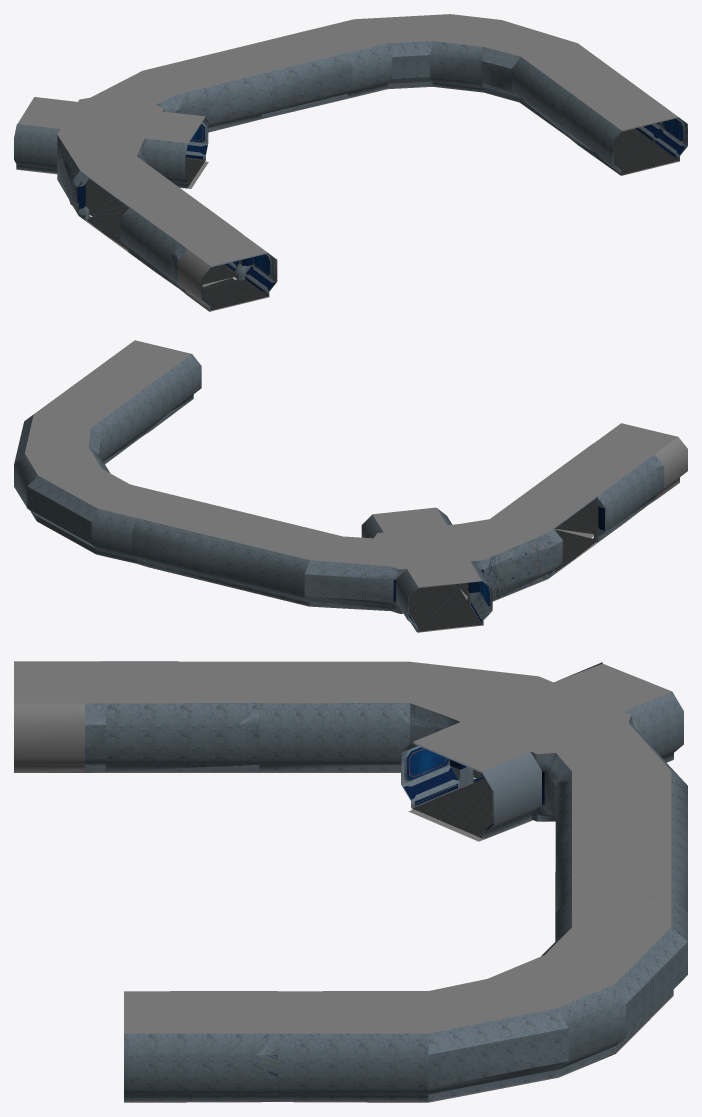
Rendered from pasillo_3.obj.
The picture shows the model from 3 angles, top to bottom: view 1: azimuth 30°, elevation 25°; view 2: azimuth 150°, elevation 25°; view 3: azimuth 270°, elevation 25°; orthographic projection. The views are drawn at different scales.
Visible parts, largest first — view 1: pasillo_3:polySurface1612, pasillo_3:modelPanel1ViewSelecte, pasillo_3:polySurface1580, pasillo_3:SUELO, pasillo_3:AZUL, pasillo_3:modelPanel3ViewSelecte; view 2: pasillo_3:modelPanel1ViewSelecte, pasillo_3:polySurface1612, pasillo_3:polySurface1580, pasillo_3:SUELO, pasillo_3:modelPanel3ViewSelecte; view 3: pasillo_3:modelPanel1ViewSelecte, pasillo_3:polySurface1612, pasillo_3:polySurface1580, pasillo_3:SUELO, pasillo_3:modelPanel3ViewSelecte, pasillo_3:AZUL.
Part boxes in pixels (box(x1,y1,x2,y2)): pasillo_3:polySurface1612: box(17, 14, 678, 206); pasillo_3:modelPanel1ViewSelecte: box(14, 41, 687, 310); pasillo_3:polySurface1580: box(16, 86, 679, 311); pasillo_3:SUELO: box(85, 129, 678, 310); pasillo_3:AZUL: box(77, 124, 685, 291); pasillo_3:modelPanel3ViewSelecte: box(19, 169, 277, 299); pasillo_3:modelPanel1ViewSelecte: box(14, 354, 664, 631); pasillo_3:polySurface1612: box(25, 340, 596, 588); pasillo_3:polySurface1580: box(30, 404, 687, 632); pasillo_3:SUELO: box(409, 500, 598, 631); pasillo_3:modelPanel3ViewSelecte: box(457, 449, 687, 616); pasillo_3:modelPanel1ViewSelecte: box(85, 661, 687, 1101); pasillo_3:polySurface1612: box(124, 661, 671, 1033); pasillo_3:polySurface1580: box(14, 661, 673, 1102); pasillo_3:SUELO: box(412, 769, 492, 838); pasillo_3:modelPanel3ViewSelecte: box(14, 725, 484, 782); pasillo_3:AZUL: box(404, 759, 544, 830).
Size of the model in its own units: 203 by 16.86 by 150.
